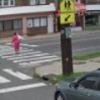cars: (54, 70, 100, 99)
